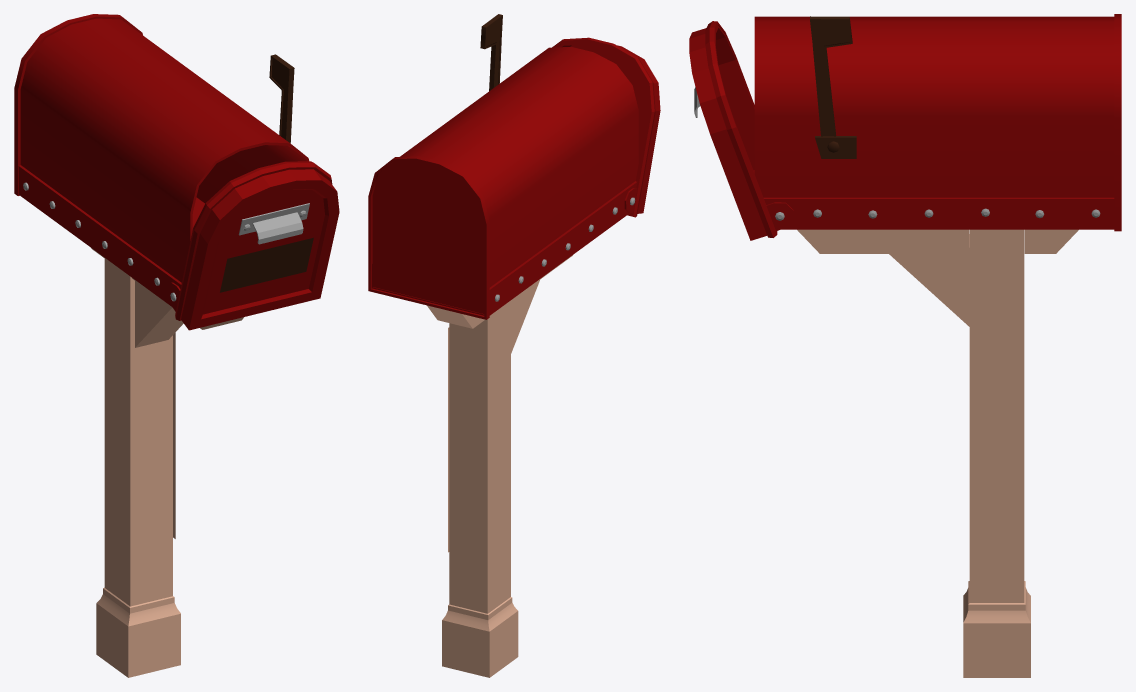
File: mailbox.fbx
3 renders of one model, left to right at view 1: azimuth 30°, elevation 25°; view 2: azimuth 150°, elevation 25°; view 3: azimuth 270°, elevation 25°, orthographic. The views are drawn at different scales.
Visible parts, largest first — view 1: Mailbox, MailBox_Door; view 2: Mailbox, MailBox_Door; view 3: Mailbox, MailBox_Door.
Boxes of the visible parts, bbox=[...] form: Mailbox: bbox=[14, 14, 309, 677]; MailBox_Door: bbox=[167, 161, 339, 330]; Mailbox: bbox=[368, 14, 638, 677]; MailBox_Door: bbox=[552, 37, 660, 217]; Mailbox: bbox=[754, 14, 1121, 677]; MailBox_Door: bbox=[689, 21, 793, 240].
Bounding box in the file's own units: 1.11 × 4.79 × 2.76.
Materials: 1 (1 with a texture image).
